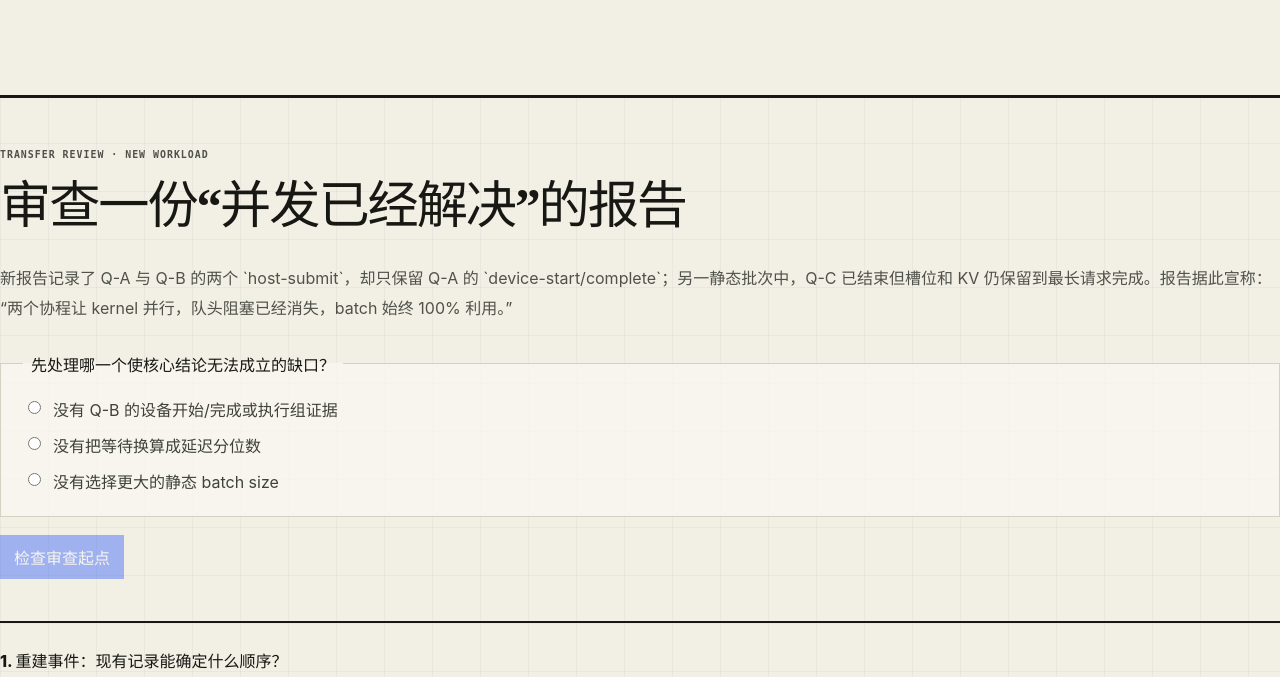
chapter two trace audit and transfer assessment › checks the first fatal gap and exposes five transfer dimensions without mastery state
What coordinates should you click on to do the following:
click the radio button labelled "没有把等待换算成延迟分位数"
I would click on:
 (34, 443)
Its box is [28, 436, 41, 450].
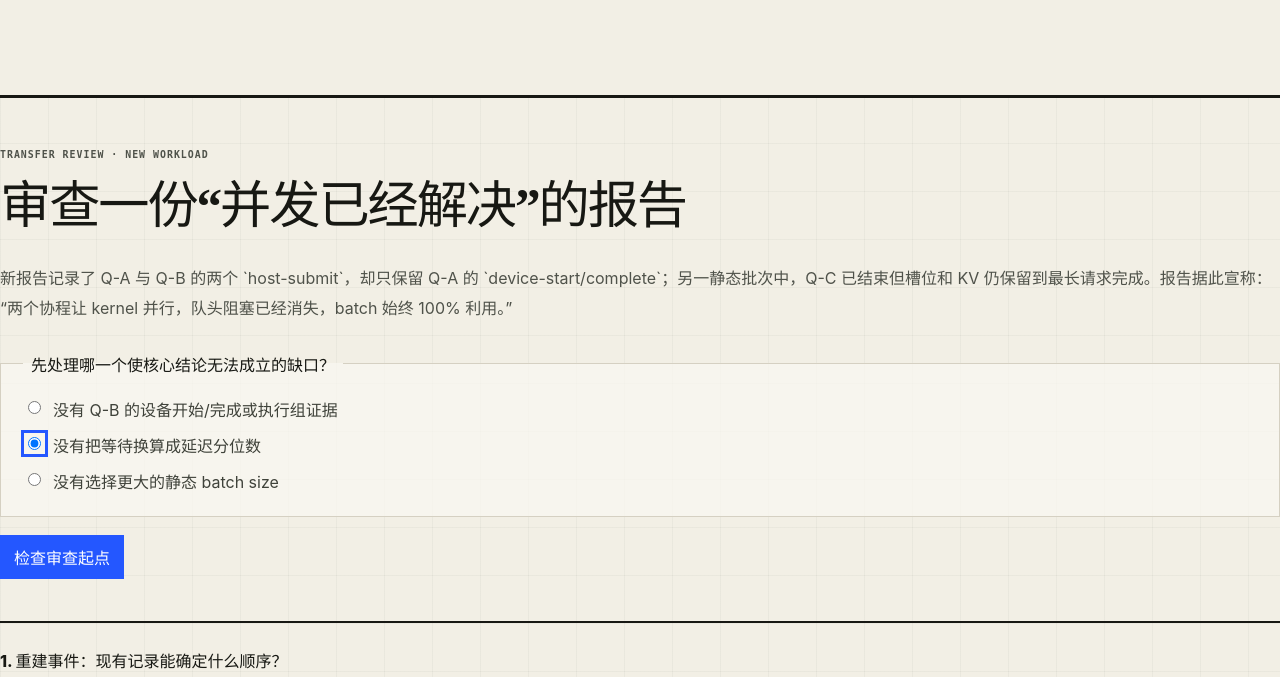
What coordinates should you click on to do the following:
click the button "检查审查起点"
I would click on:
 (62, 556)
Its box is [0, 534, 124, 578].
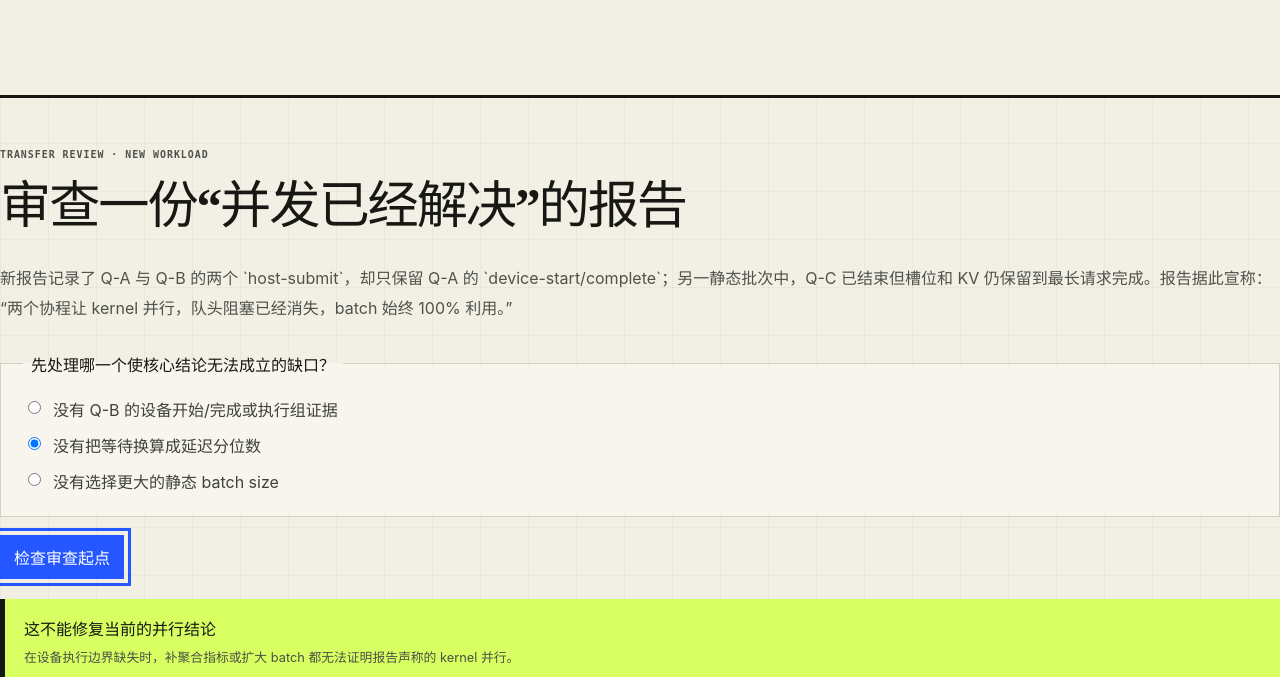
Expected: the text "这不能修复当前的并行结论" is shown, [24, 618, 216, 638]
What coordinates should you click on to do the following:
click the radio button labelled "没有 Q-B 的设备开始/完成或执行组证据"
I would click on:
 (34, 407)
Its box is [28, 400, 41, 414].
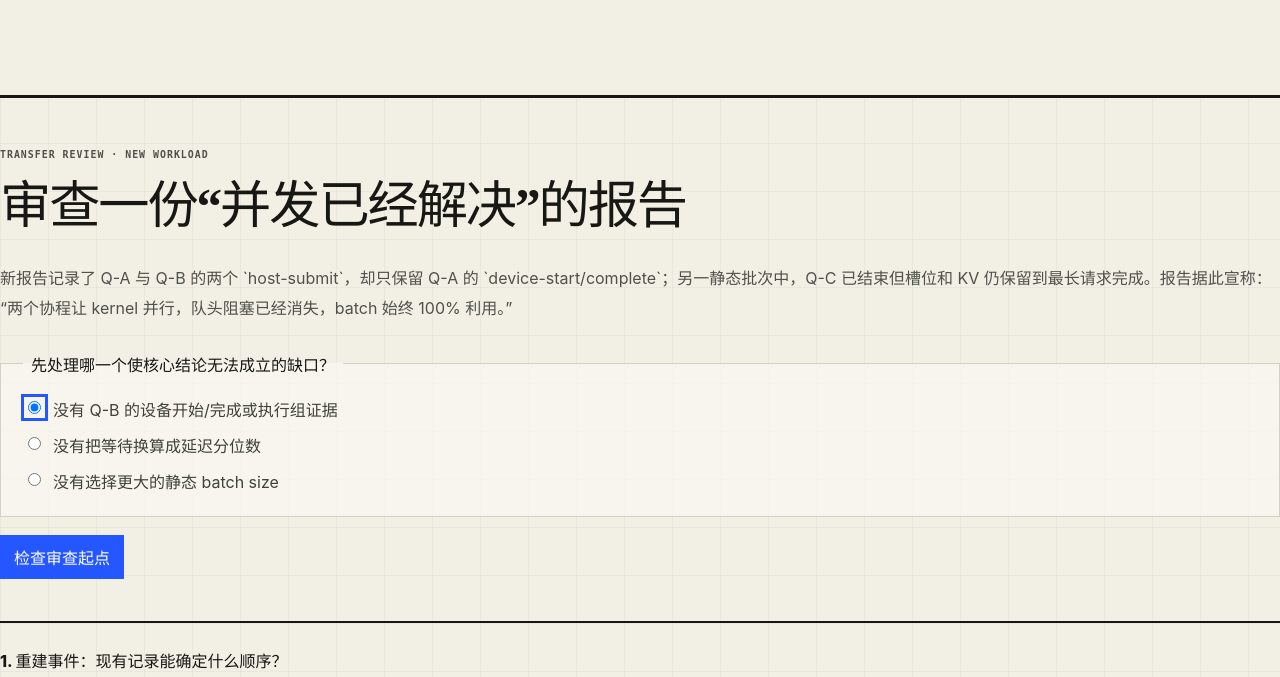
What coordinates should you click on to do the following:
click the button "检查审查起点"
I would click on:
 (62, 556)
Its box is [0, 534, 124, 578].
(page scrolled)
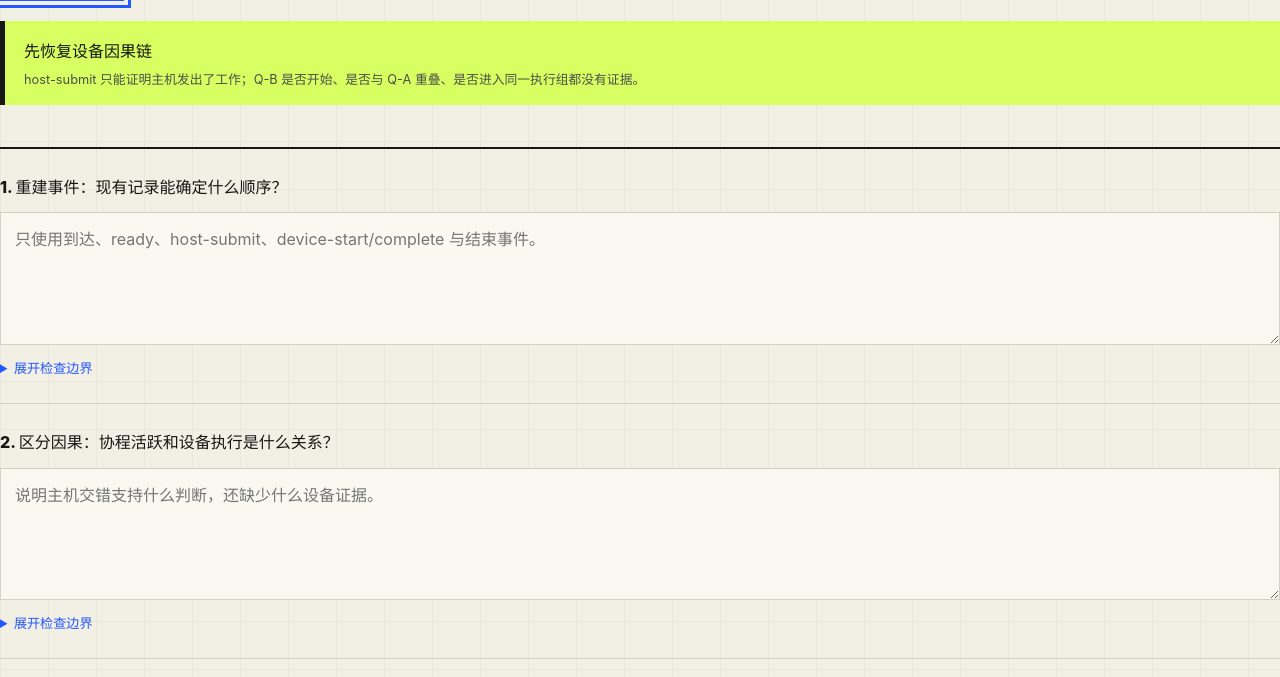
Expected: the text "先恢复设备因果链" is shown, [24, 40, 152, 60]
What coordinates should you click on to do the following:
click the heading "展开检查边界" below "重建事件：现有记录能确定什么顺序？"
I would click on:
 (53, 368)
Its box is [14, 360, 93, 376].
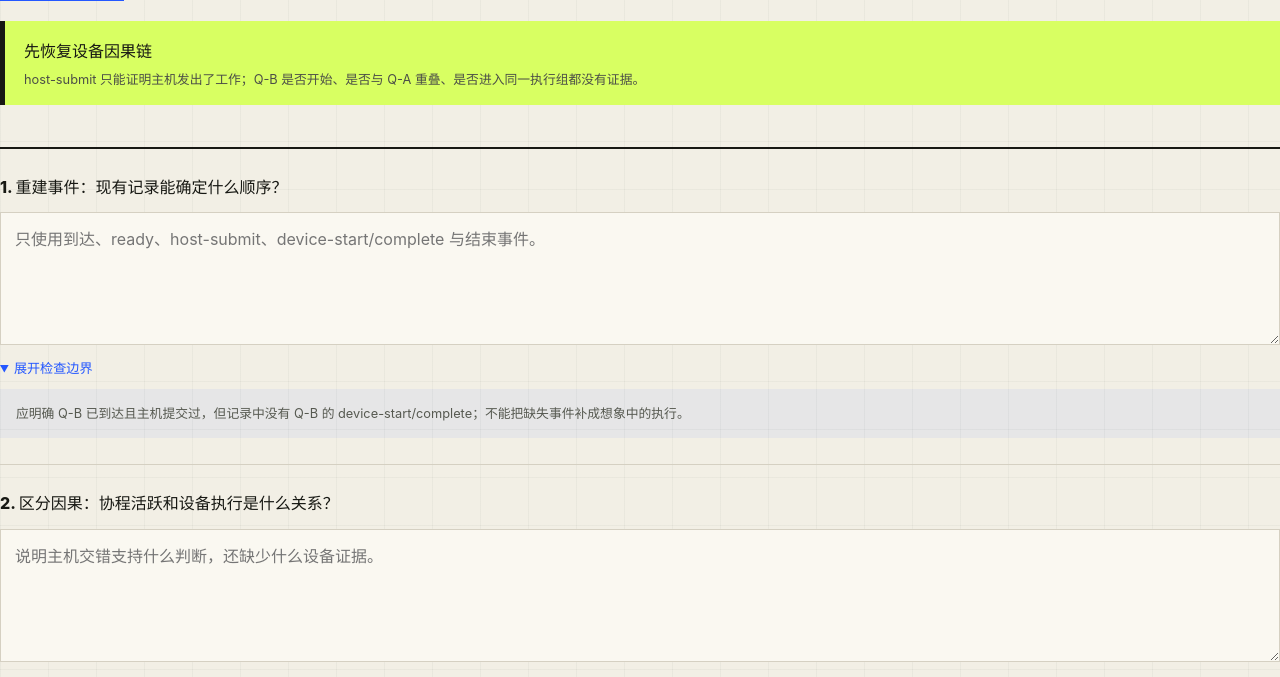
Expected: the text "Q-B 已到达且主机提交过" is shown, [16, 406, 690, 421]
